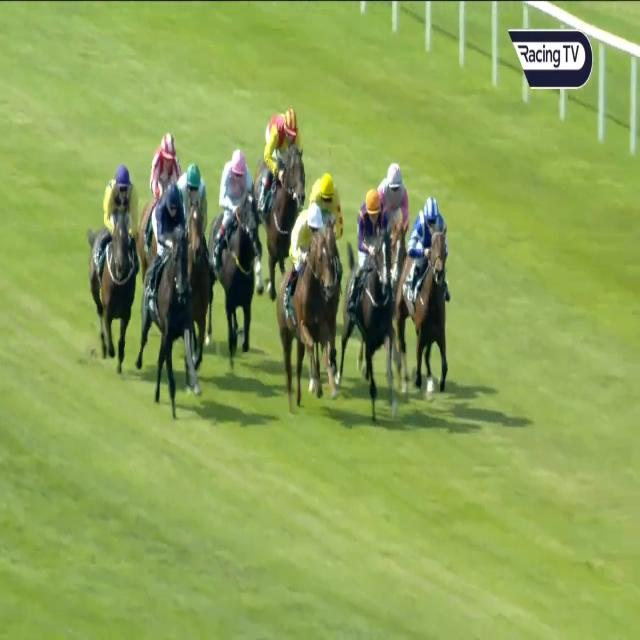horses-racing: (394, 191, 453, 397), (143, 183, 192, 416), (85, 165, 138, 362), (282, 197, 331, 401), (348, 192, 396, 392), (254, 109, 309, 282), (215, 149, 259, 348), (179, 158, 218, 346), (376, 147, 412, 238), (142, 129, 178, 198), (310, 170, 344, 232)
